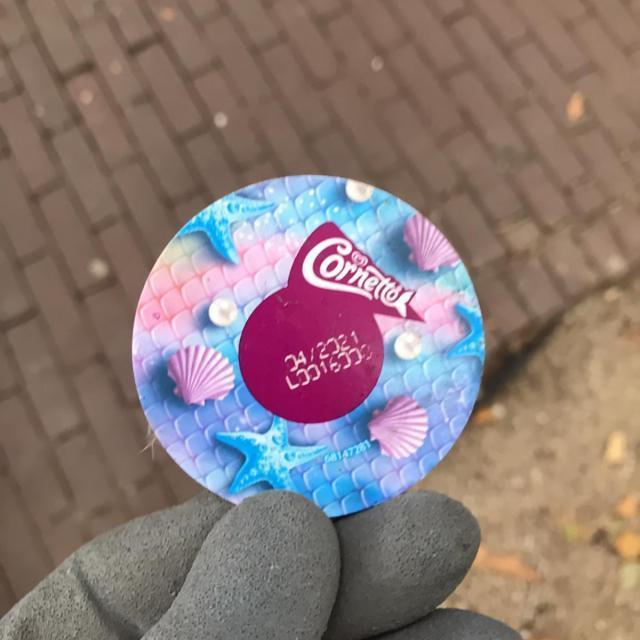Paper: (129, 171, 488, 520)
